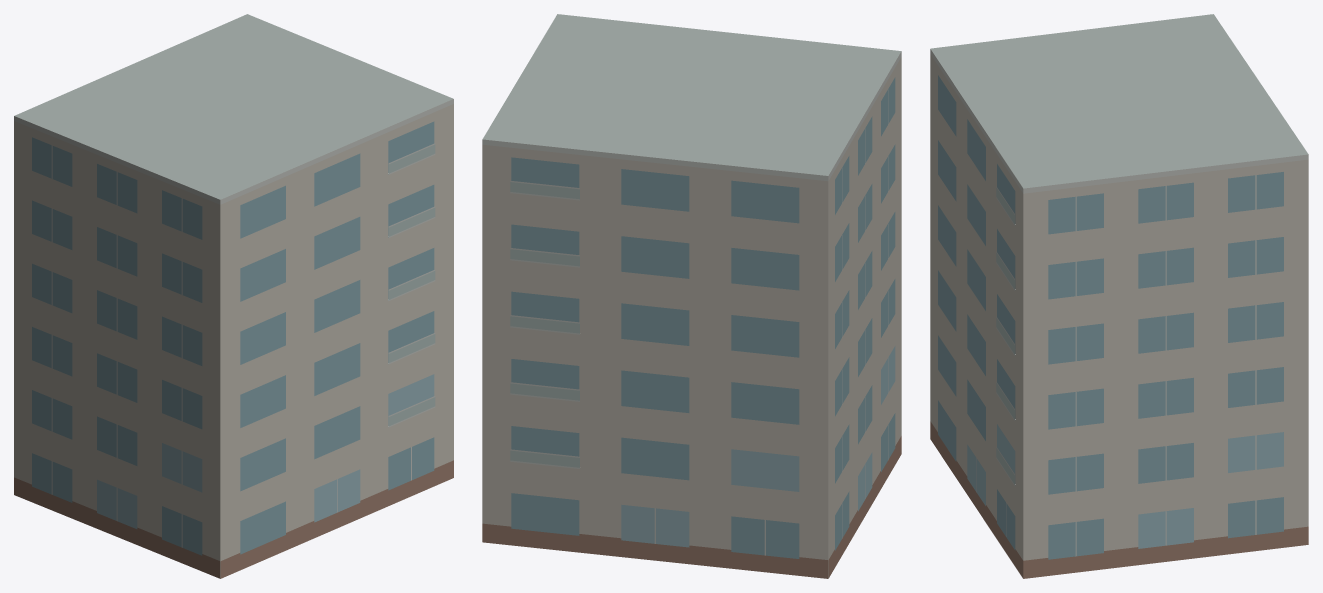
The model's file is survey-upis-32720565.glb.
The picture shows the model from 3 angles, left to right: view 1: azimuth 30°, elevation 25°; view 2: azimuth 150°, elevation 25°; view 3: azimuth 270°, elevation 25°; orthographic projection. The views are drawn at different scales.
Visible parts, largest first — view 1: survey-upis-32720565.tmp; view 2: survey-upis-32720565.tmp; view 3: survey-upis-32720565.tmp.
Boxes of the visible parts, x1=… form: survey-upis-32720565.tmp: x1=14, y1=14, x2=453, y2=578; survey-upis-32720565.tmp: x1=482, y1=14, x2=901, y2=578; survey-upis-32720565.tmp: x1=930, y1=14, x2=1308, y2=578.
Size of the model in its own units: 17.95 by 18.7 by 16.44.
